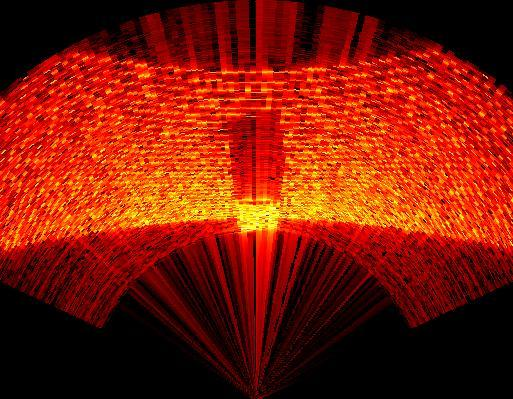box_crate: (226, 112, 284, 204)
